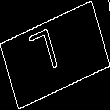L_S: (37, 26, 73, 84)
